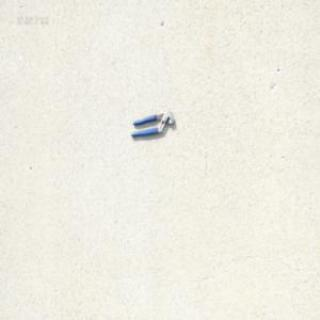Pliertrack_idkeyframe: (129, 109, 175, 138)
